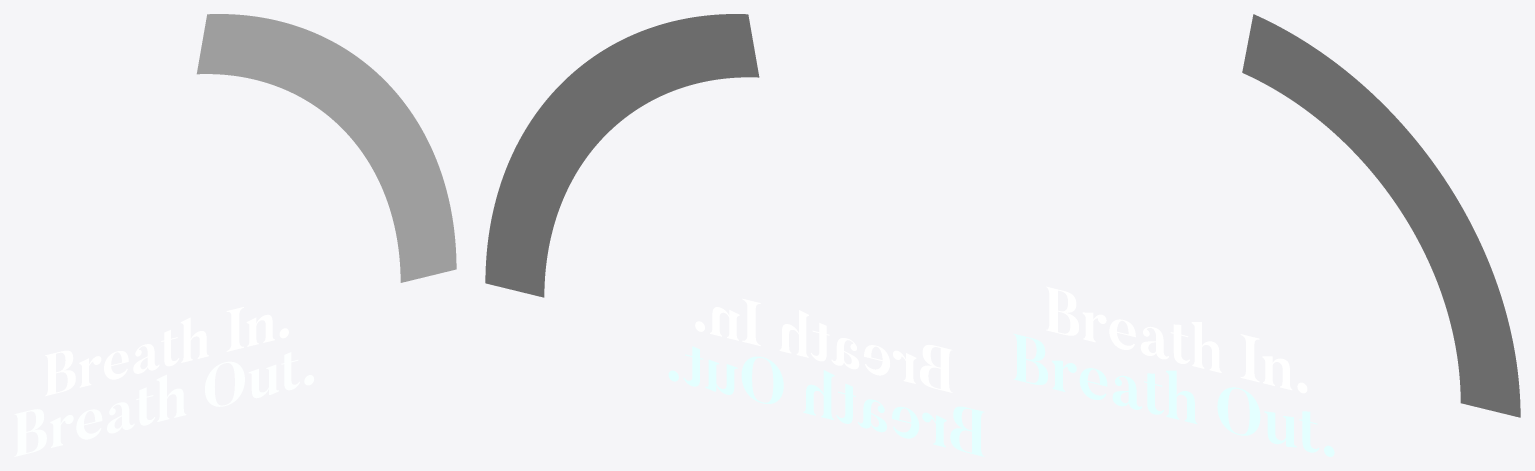
File: Mindful Circle2.fbx
3 renders of one model, left to right at view 1: azimuth 30°, elevation 25°; view 2: azimuth 150°, elevation 25°; view 3: azimuth 330°, elevation 25°, orthographic. The views are drawn at different scales.
Visible parts, largest first — view 1: Circle, Text.001, Text; view 2: Circle, Text.001, Text; view 3: Circle, Text.001, Text.
Boxes of the visible parts, x1=… form: Circle: x1=196, y1=14, x2=456, y2=282; Text.001: x1=14, y1=352, x2=313, y2=456; Text: x1=45, y1=307, x2=288, y2=396; Circle: x1=485, y1=14, x2=759, y2=297; Text.001: x1=668, y1=346, x2=984, y2=456; Text: x1=695, y1=298, x2=952, y2=392; Circle: x1=1242, y1=14, x2=1520, y2=417; Text.001: x1=1013, y1=333, x2=1334, y2=456; Text: x1=1046, y1=286, x2=1307, y2=393.
Size of the model in its own units: 164 by 130 by 9.69.
